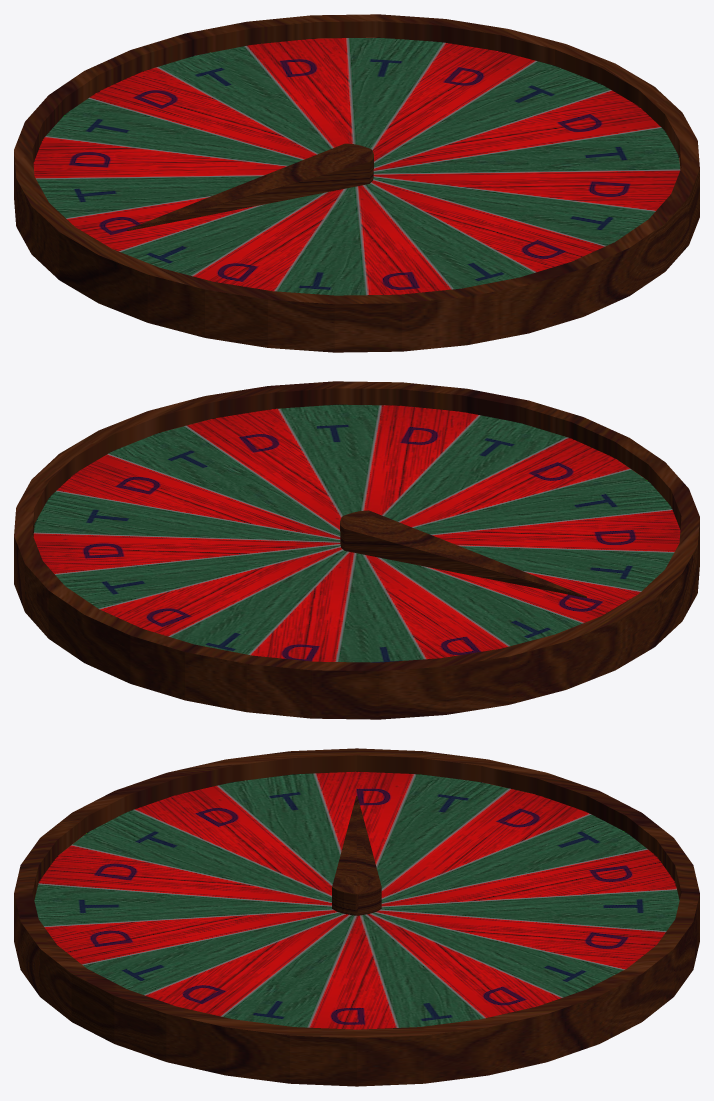
File: spinwheel.glb
3 views of the same model, one above another, from view 1: azimuth 30°, elevation 25°; view 2: azimuth 150°, elevation 25°; view 3: azimuth 270°, elevation 25° (orthographic).
Visible parts, largest first — view 1: Cylinder, Cube; view 2: Cylinder, Cube; view 3: Cylinder, Cube.
Part boxes in pixels (x1,y1,x2,y2): Cylinder: [14, 14, 699, 352]; Cube: [127, 143, 373, 230]; Cylinder: [14, 381, 699, 719]; Cube: [340, 510, 586, 597]; Cylinder: [14, 748, 699, 1086]; Cube: [332, 796, 381, 915].
Bounding box in the file's own units: 1.93 × 0.1702 × 1.93.
Materials: 2 (2 with a texture image).
